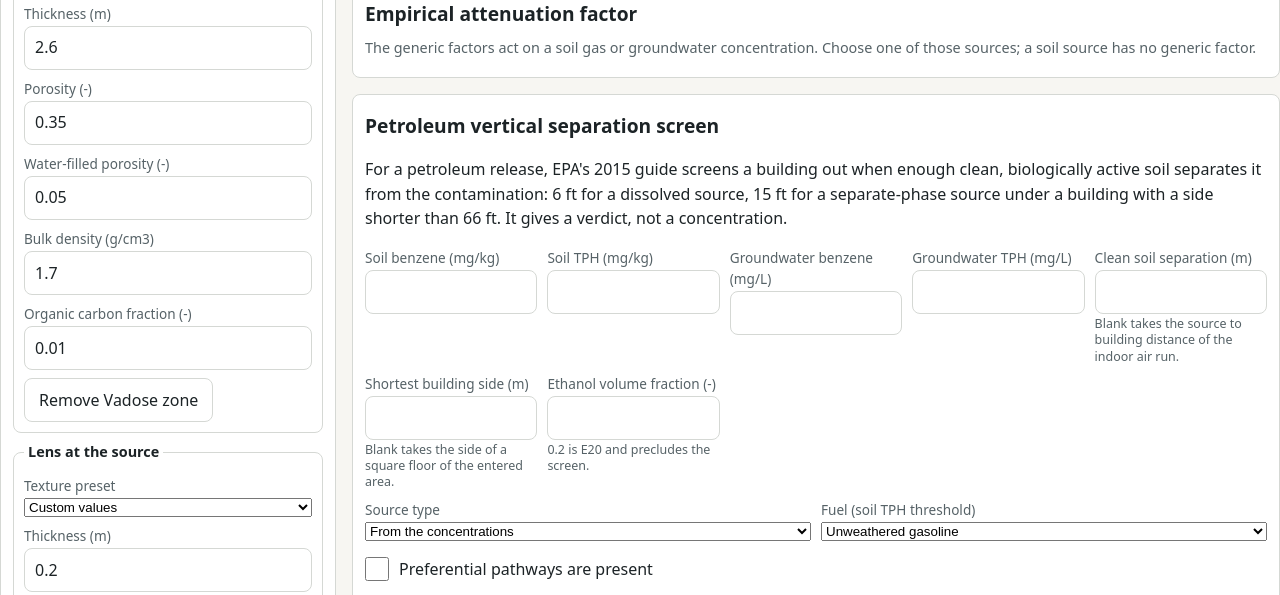
petroleum vapor screen › shows the verdict and why for an LNAPL source and for a dissolved one
(page scrolled)
In the field labelled "Groundwater benzene (mg/L)": (816,313) [730,291,902,335], type "6"
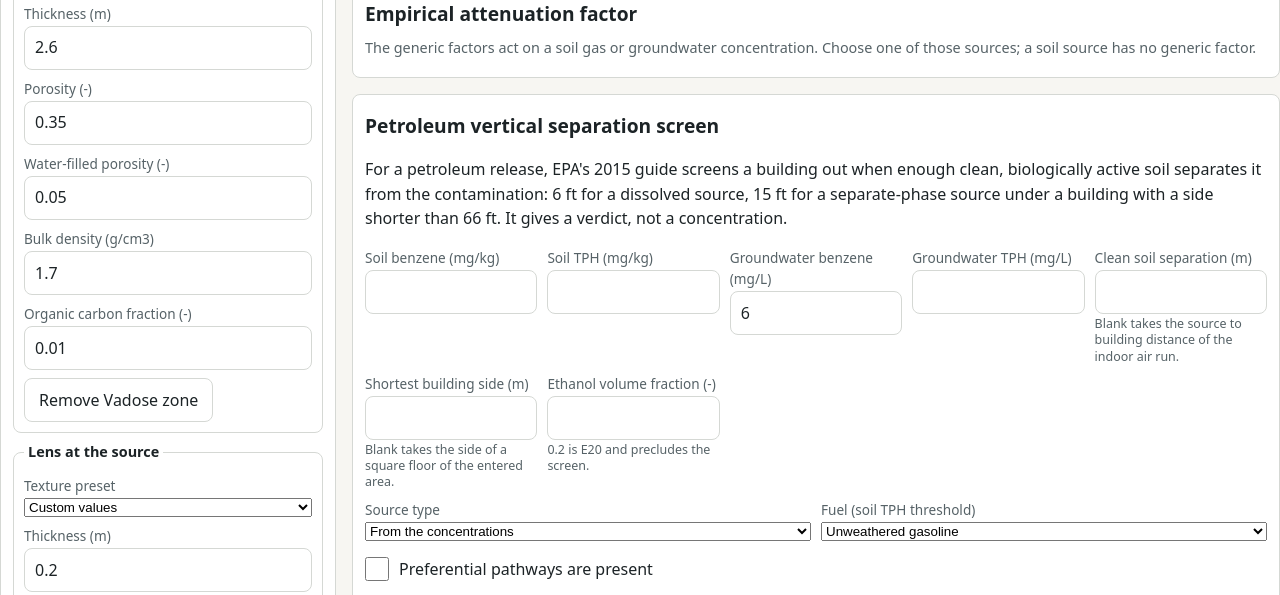
Replace the text in the field labelled "Groundwater benzene (mg/L)" with "1": (816,313) [730,291,902,335]
(page scrolled)
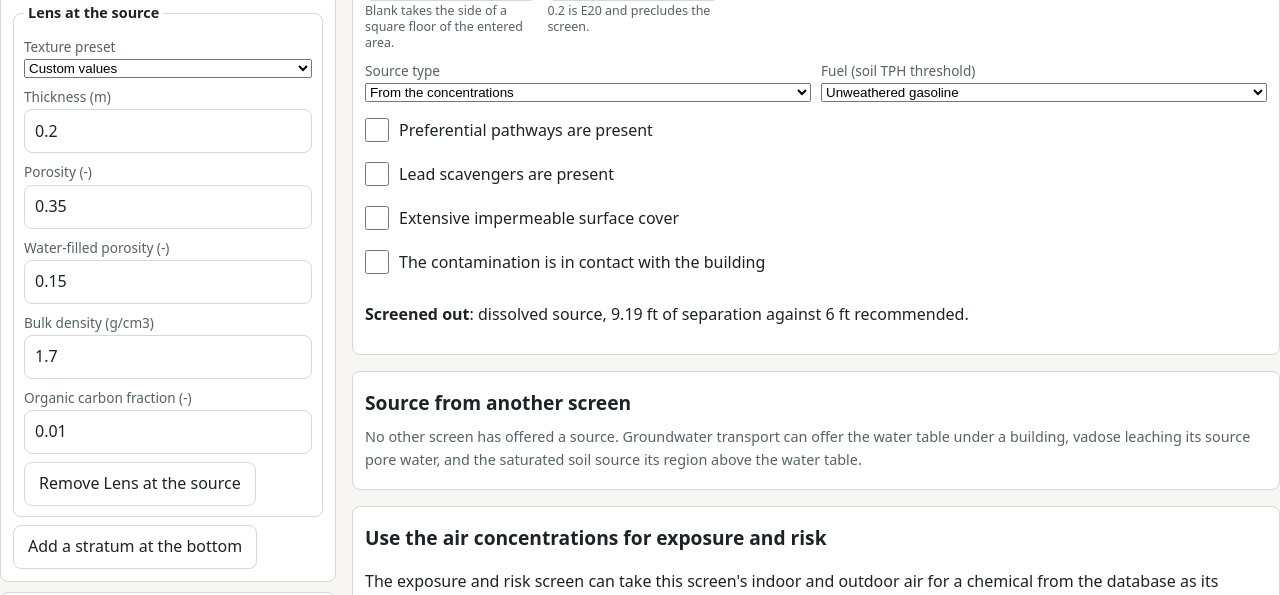
Now the text "Screened out" is shown, box [365,303,470,325]
